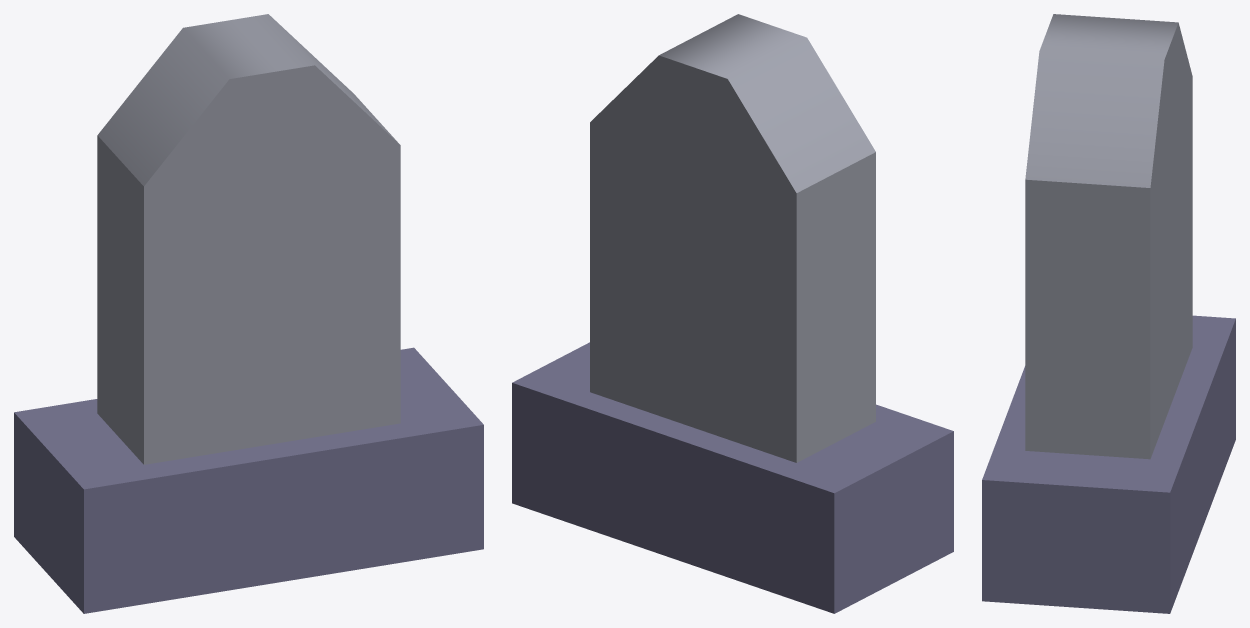
The model's file is tombstone1.fbx.
3 renders of one model, left to right at view 1: azimuth 30°, elevation 25°; view 2: azimuth 150°, elevation 25°; view 3: azimuth 270°, elevation 25°, orthographic. The views are drawn at different scales.
Parts seen in each view (by area): view 1: polySurface58; view 2: polySurface58; view 3: polySurface58.
Part boxes in pixels (x1,y1,x2,y2): polySurface58: (14, 14, 483, 613); polySurface58: (512, 14, 953, 613); polySurface58: (982, 14, 1235, 613).
Bounding box in the file's own units: 3.49 × 4.21 × 2.
